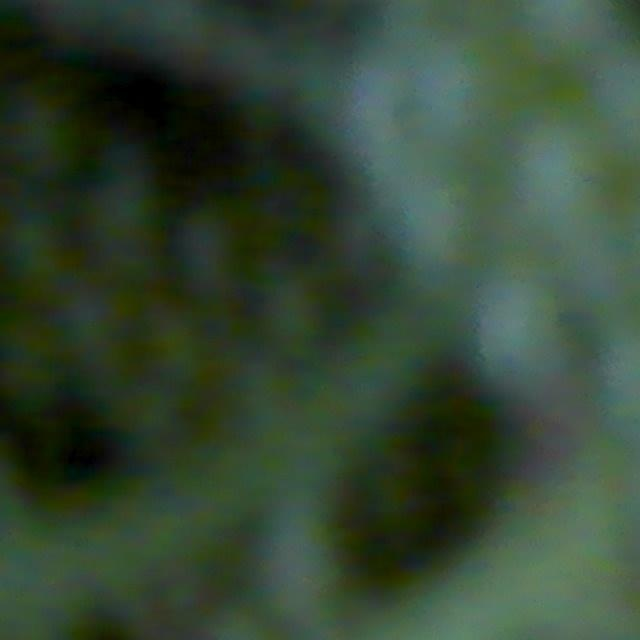SeaGrape: (463, 262, 579, 393), (387, 172, 487, 280), (400, 46, 496, 146), (517, 125, 596, 204)
